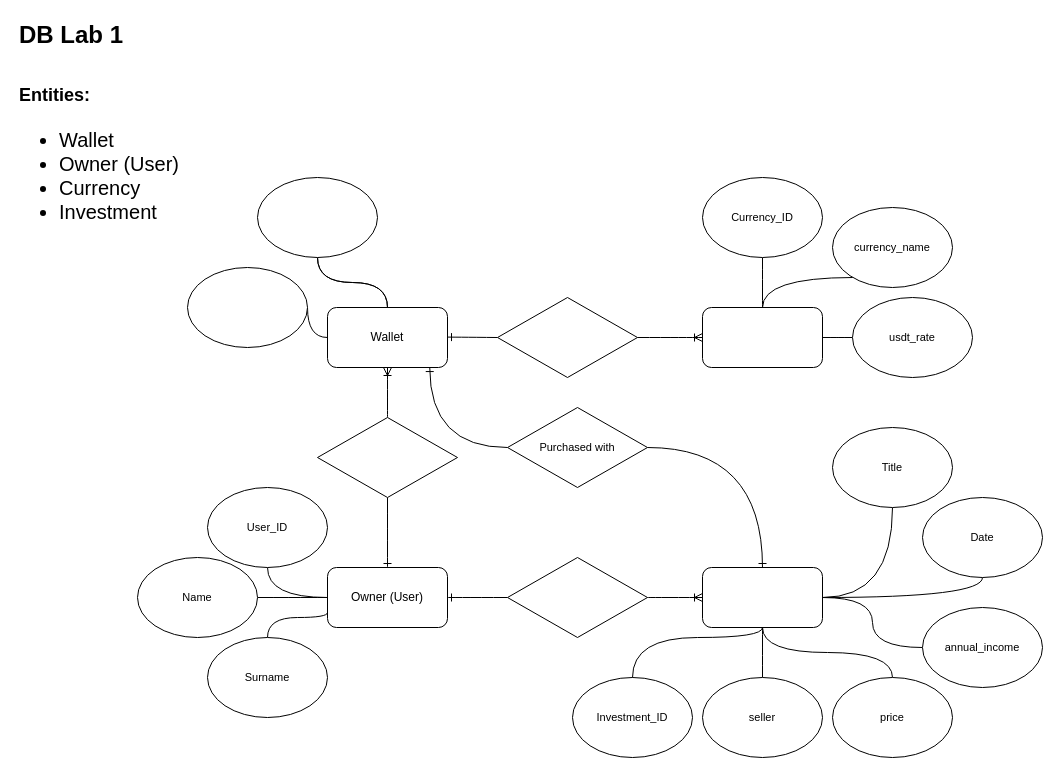
Image size: 1060x775. Some labels were removed from this diagram. Here are the shapes that lost their labels. From the top down, the box of each, then its label:
(256, 176, 378, 258): Wallet_id
(186, 266, 308, 348): Status
(496, 296, 638, 378): Contains
(702, 306, 822, 368): Currency
(316, 416, 458, 498): Has
(506, 556, 648, 638): Buys
(702, 566, 822, 628): Investment
